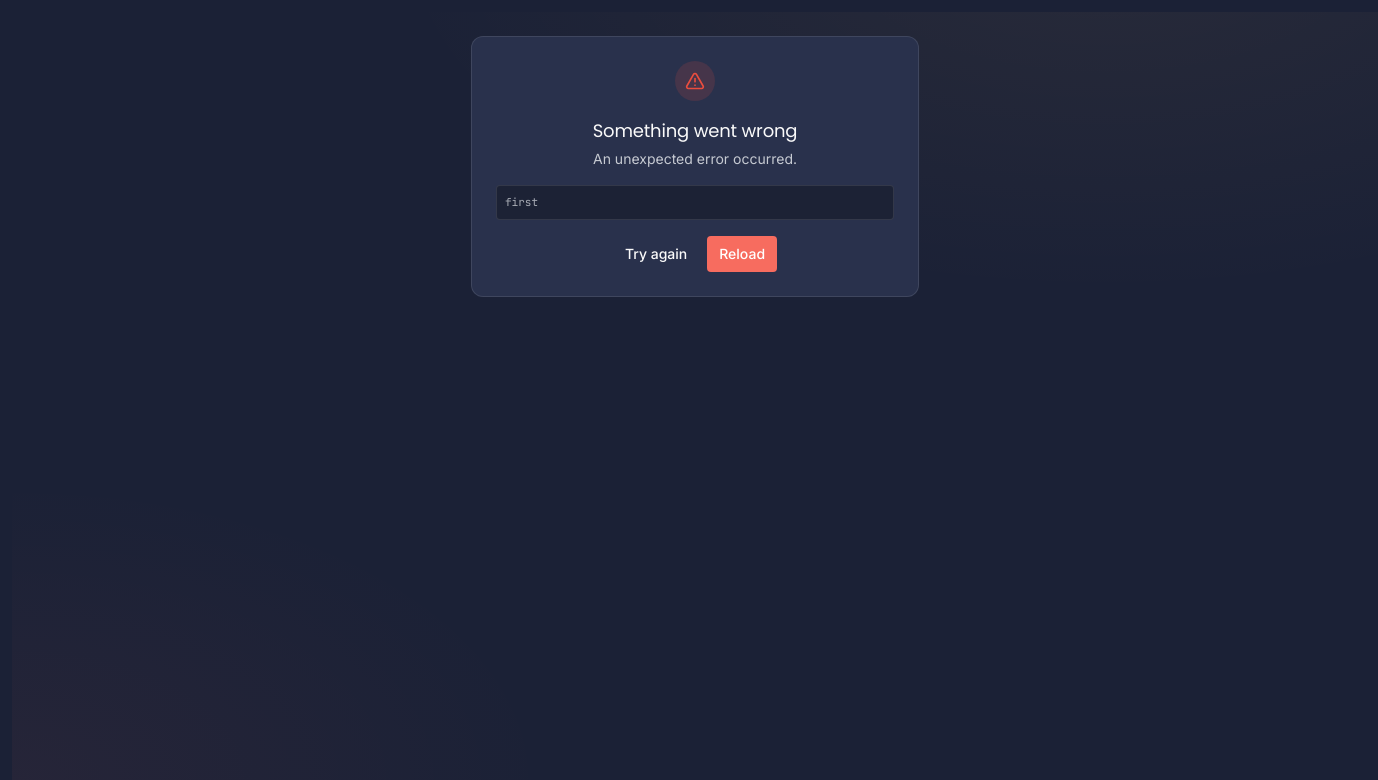
Scenario: ErrorBoundary › reset clears the error so children render again
Click the button "Try again": [656, 254] box [613,236,699,272]
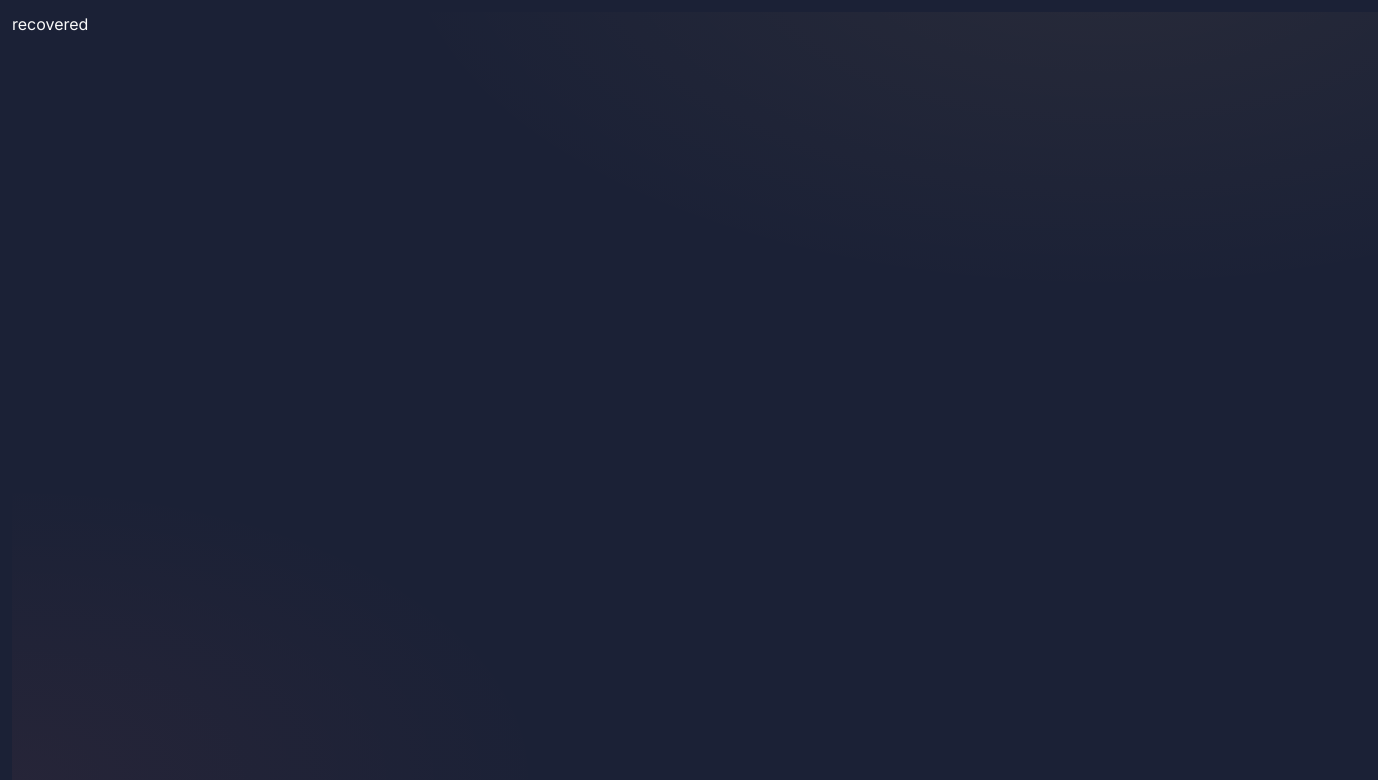
expect the text "recovered" is shown: met, box [12,14,88,34]
